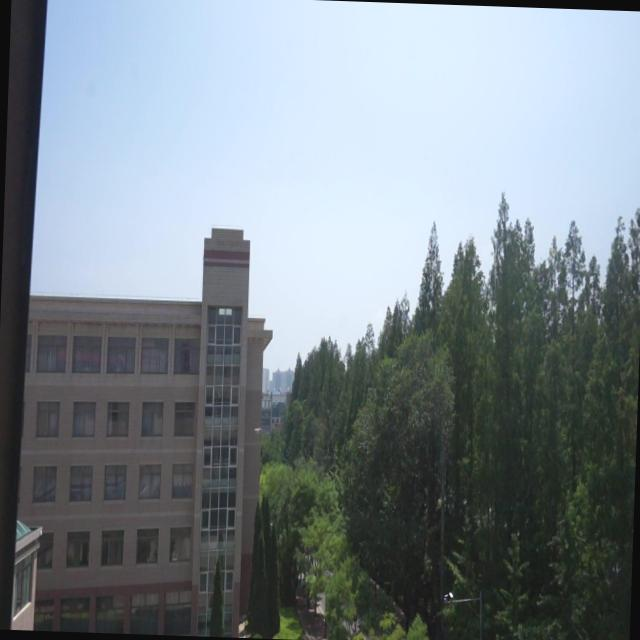drone: (251, 422, 264, 438)
